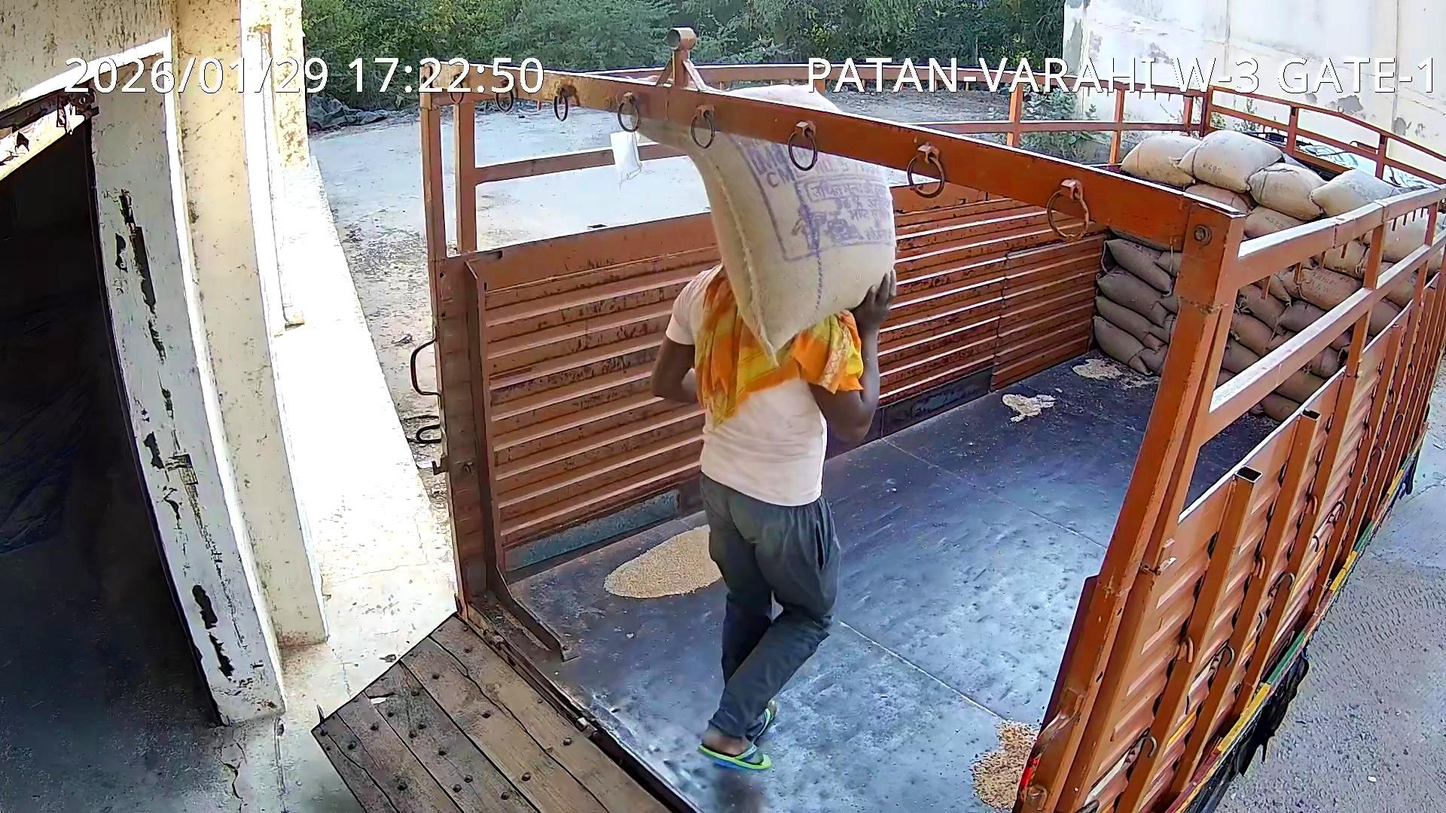Sack: (642, 117, 895, 352), (726, 84, 840, 112)
